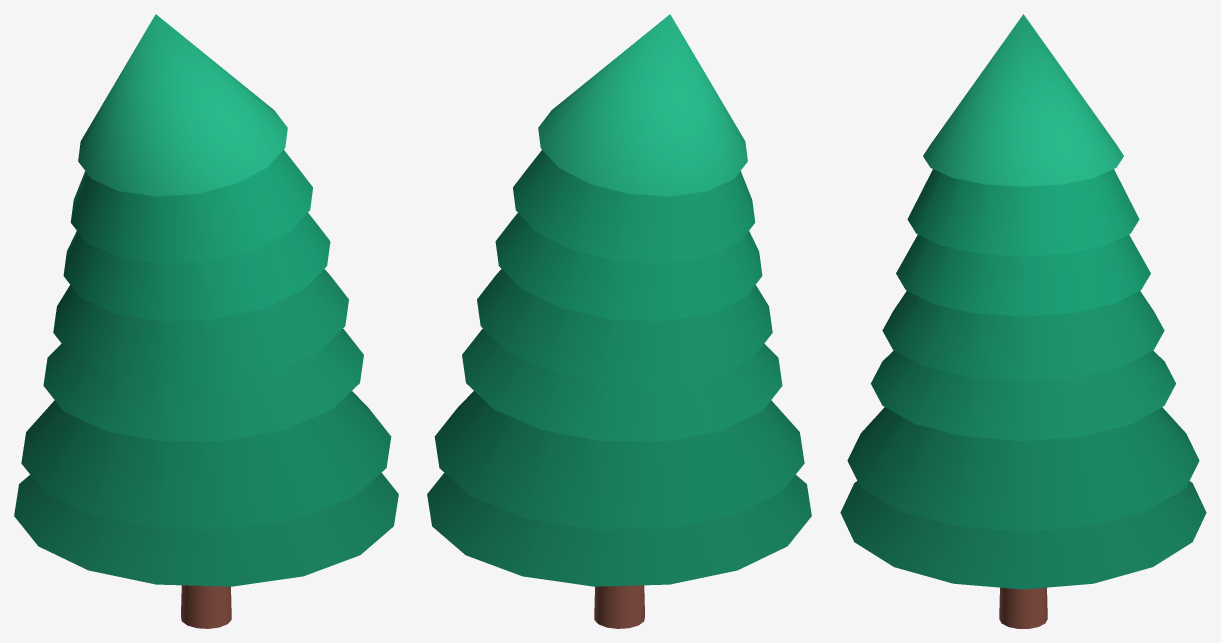
Rendered from Spruce_Cold_Turquoise_Thick_4.fbx.
The picture shows the model from 3 angles, left to right: view 1: azimuth 30°, elevation 25°; view 2: azimuth 150°, elevation 25°; view 3: azimuth 270°, elevation 25°; orthographic projection. The views are drawn at different scales.
Parts seen in each view (by area): view 1: Cylinder.184, Cylinder.183, Cylinder.185, Cylinder.182, Cylinder.180, Cylinder.187, Cylinder.181, Cylinder.186; view 2: Cylinder.184, Cylinder.183, Cylinder.185, Cylinder.182, Cylinder.180, Cylinder.187, Cylinder.181, Cylinder.186; view 3: Cylinder.184, Cylinder.185, Cylinder.183, Cylinder.182, Cylinder.180, Cylinder.187, Cylinder.181, Cylinder.186.
Boxes of the visible parts, x1,y1,x2,y2 form: Cylinder.184: (21, 391, 391, 529); Cylinder.183: (78, 14, 287, 196); Cylinder.185: (14, 473, 398, 586); Cylinder.182: (43, 329, 363, 441); Cylinder.180: (53, 269, 348, 383); Cylinder.187: (70, 150, 312, 263); Cylinder.181: (63, 213, 330, 321); Cylinder.186: (181, 585, 231, 628); Cylinder.184: (434, 391, 804, 529); Cylinder.183: (538, 14, 747, 196); Cylinder.185: (427, 473, 811, 586); Cylinder.182: (462, 329, 782, 441); Cylinder.180: (477, 269, 772, 383); Cylinder.187: (513, 150, 755, 263); Cylinder.181: (495, 213, 762, 321); Cylinder.186: (594, 585, 644, 628); Cylinder.184: (847, 407, 1199, 531); Cylinder.185: (840, 481, 1206, 589); Cylinder.183: (923, 14, 1123, 186); Cylinder.182: (871, 350, 1175, 440); Cylinder.180: (882, 291, 1164, 381); Cylinder.187: (907, 169, 1139, 256); Cylinder.181: (896, 234, 1150, 316); Cylinder.186: (999, 587, 1047, 628).
Bounding box in the file's own units: 349 × 611 × 349.
